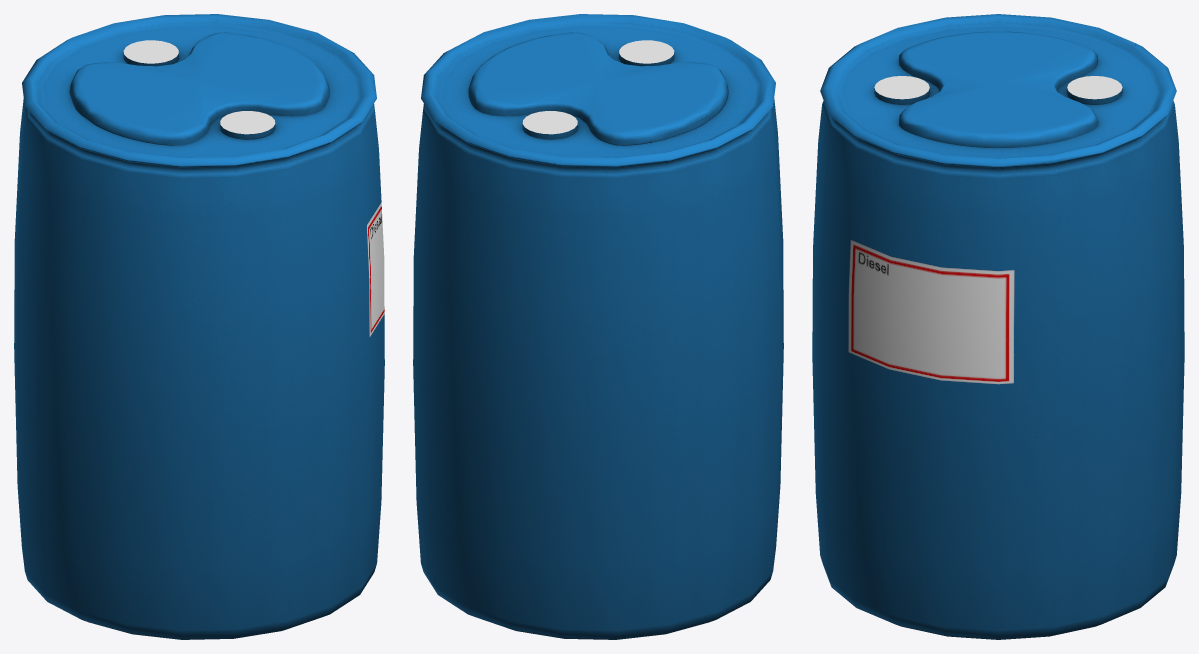
The model's file is diesel_false.fbx.
The picture shows the model from 3 angles, left to right: view 1: azimuth 30°, elevation 25°; view 2: azimuth 150°, elevation 25°; view 3: azimuth 270°, elevation 25°; orthographic projection.
Parts seen in each view (by area): view 1: diesel_false; view 2: diesel_false; view 3: diesel_false.
Boxes of the visible parts, <box> form: diesel_false: <box>14,14,384,639</box>; diesel_false: <box>413,14,783,639</box>; diesel_false: <box>812,14,1184,639</box>.
Bounding box in the file's own units: 0.4089 × 0.5907 × 0.4089.
Materials: 1 (1 with a texture image).
